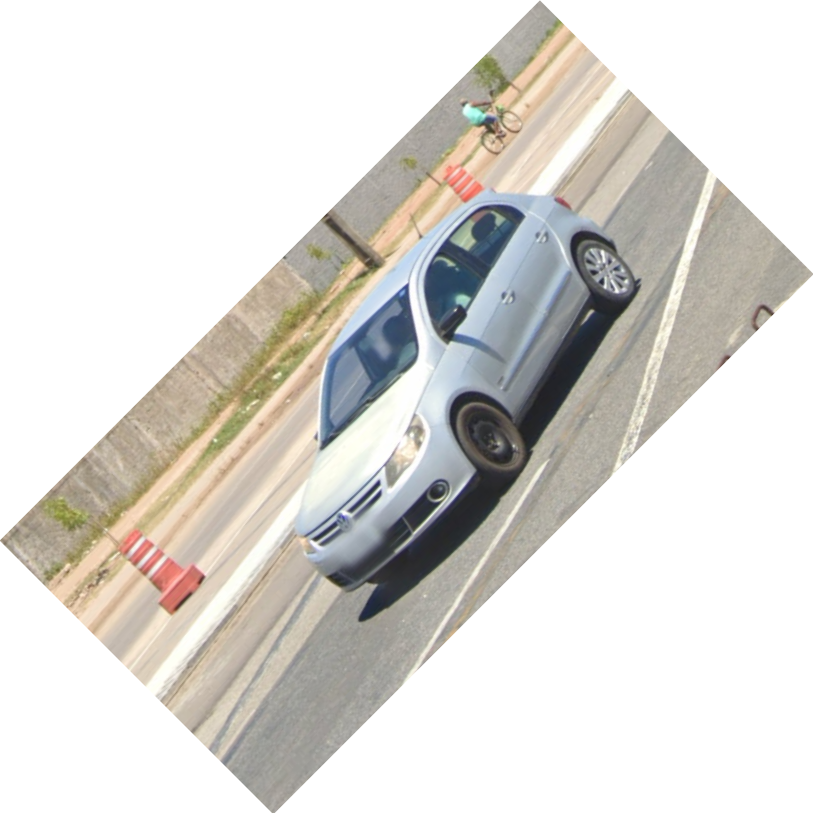car: (292, 186, 637, 595)
